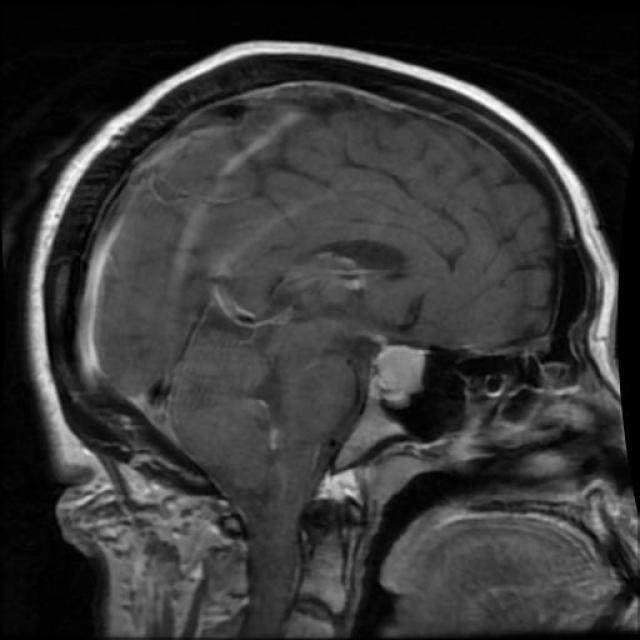Pituitary: (371, 342, 429, 408)
